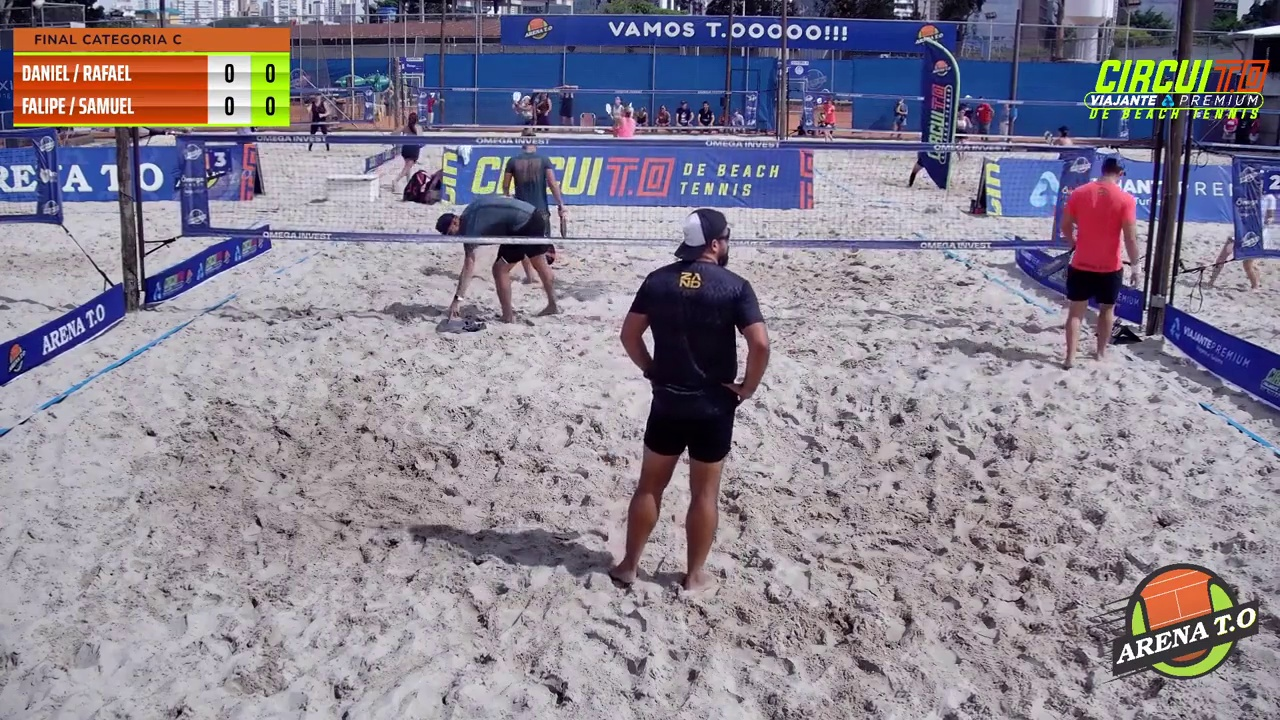court_line: (467, 0, 659, 464)
